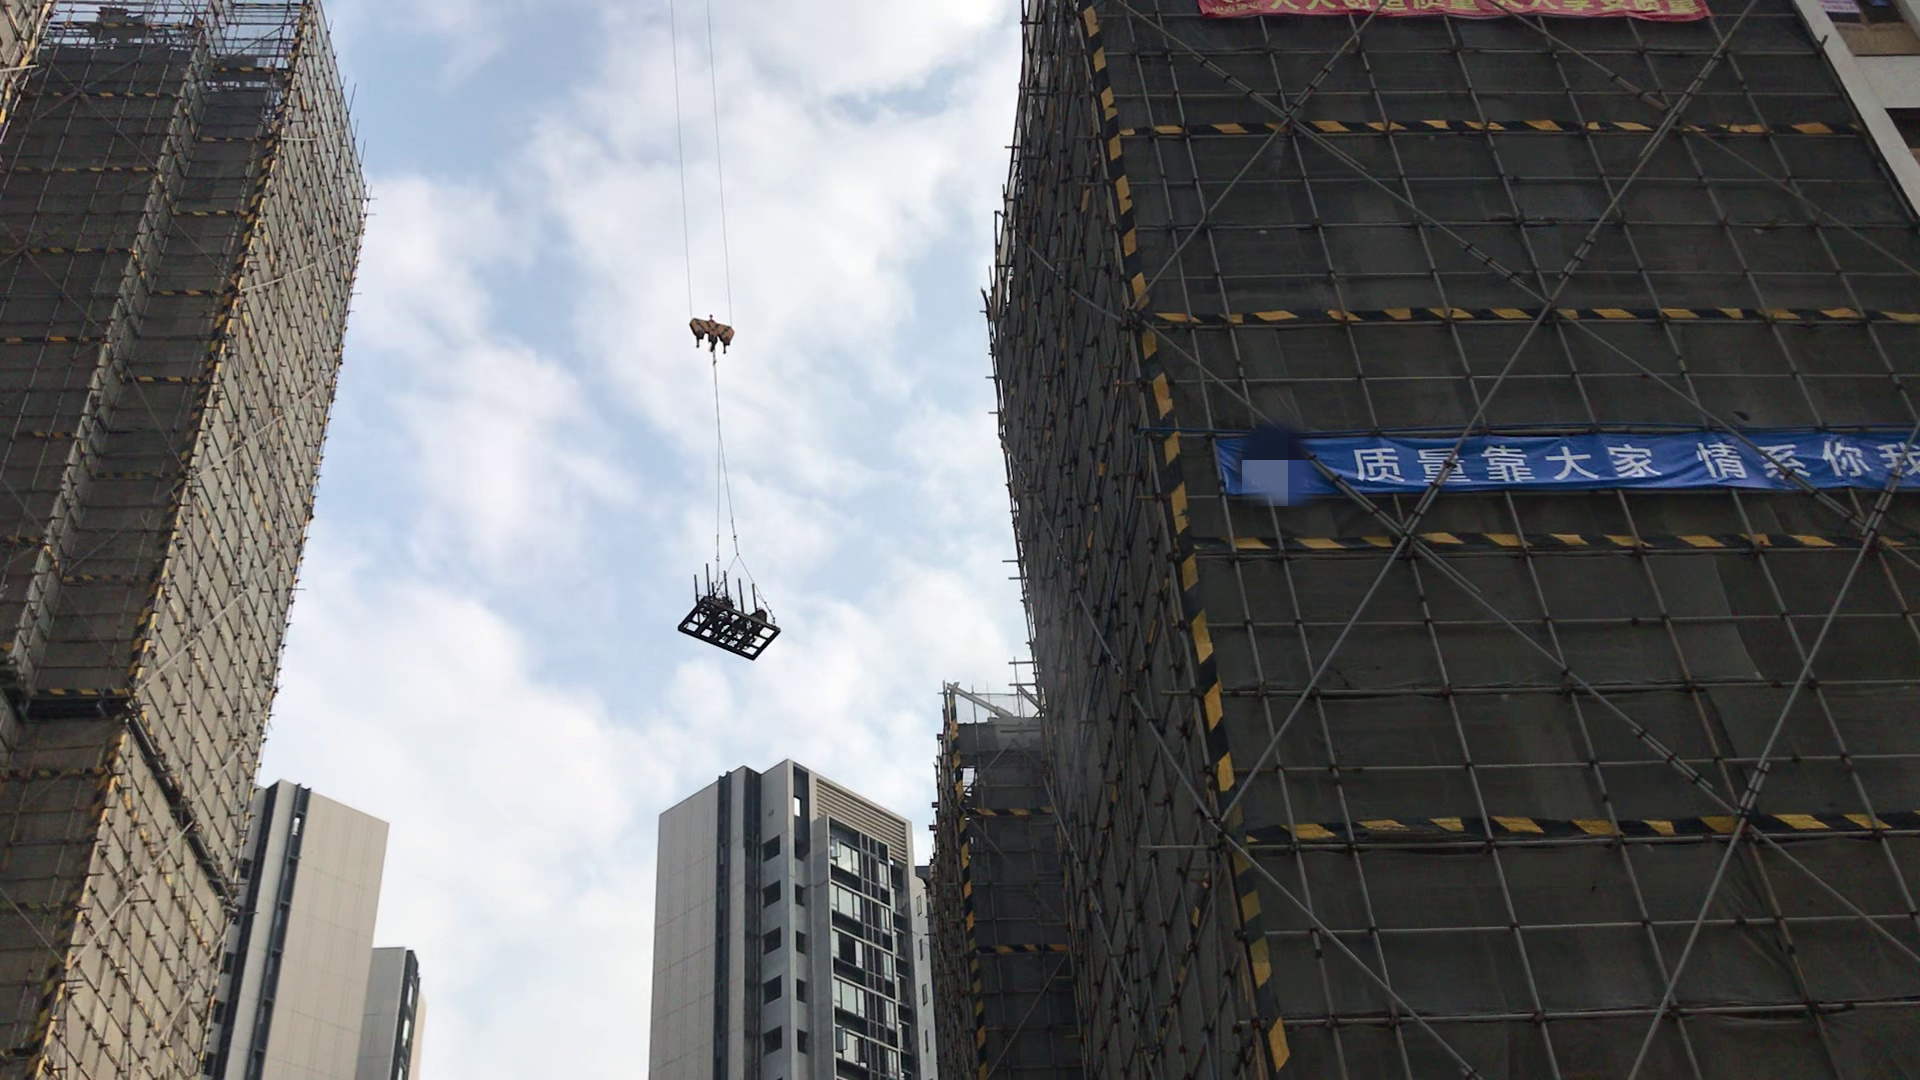hook: (680, 309, 760, 361)
slogan: (1230, 407, 1920, 506), (1197, 1, 1727, 24)
